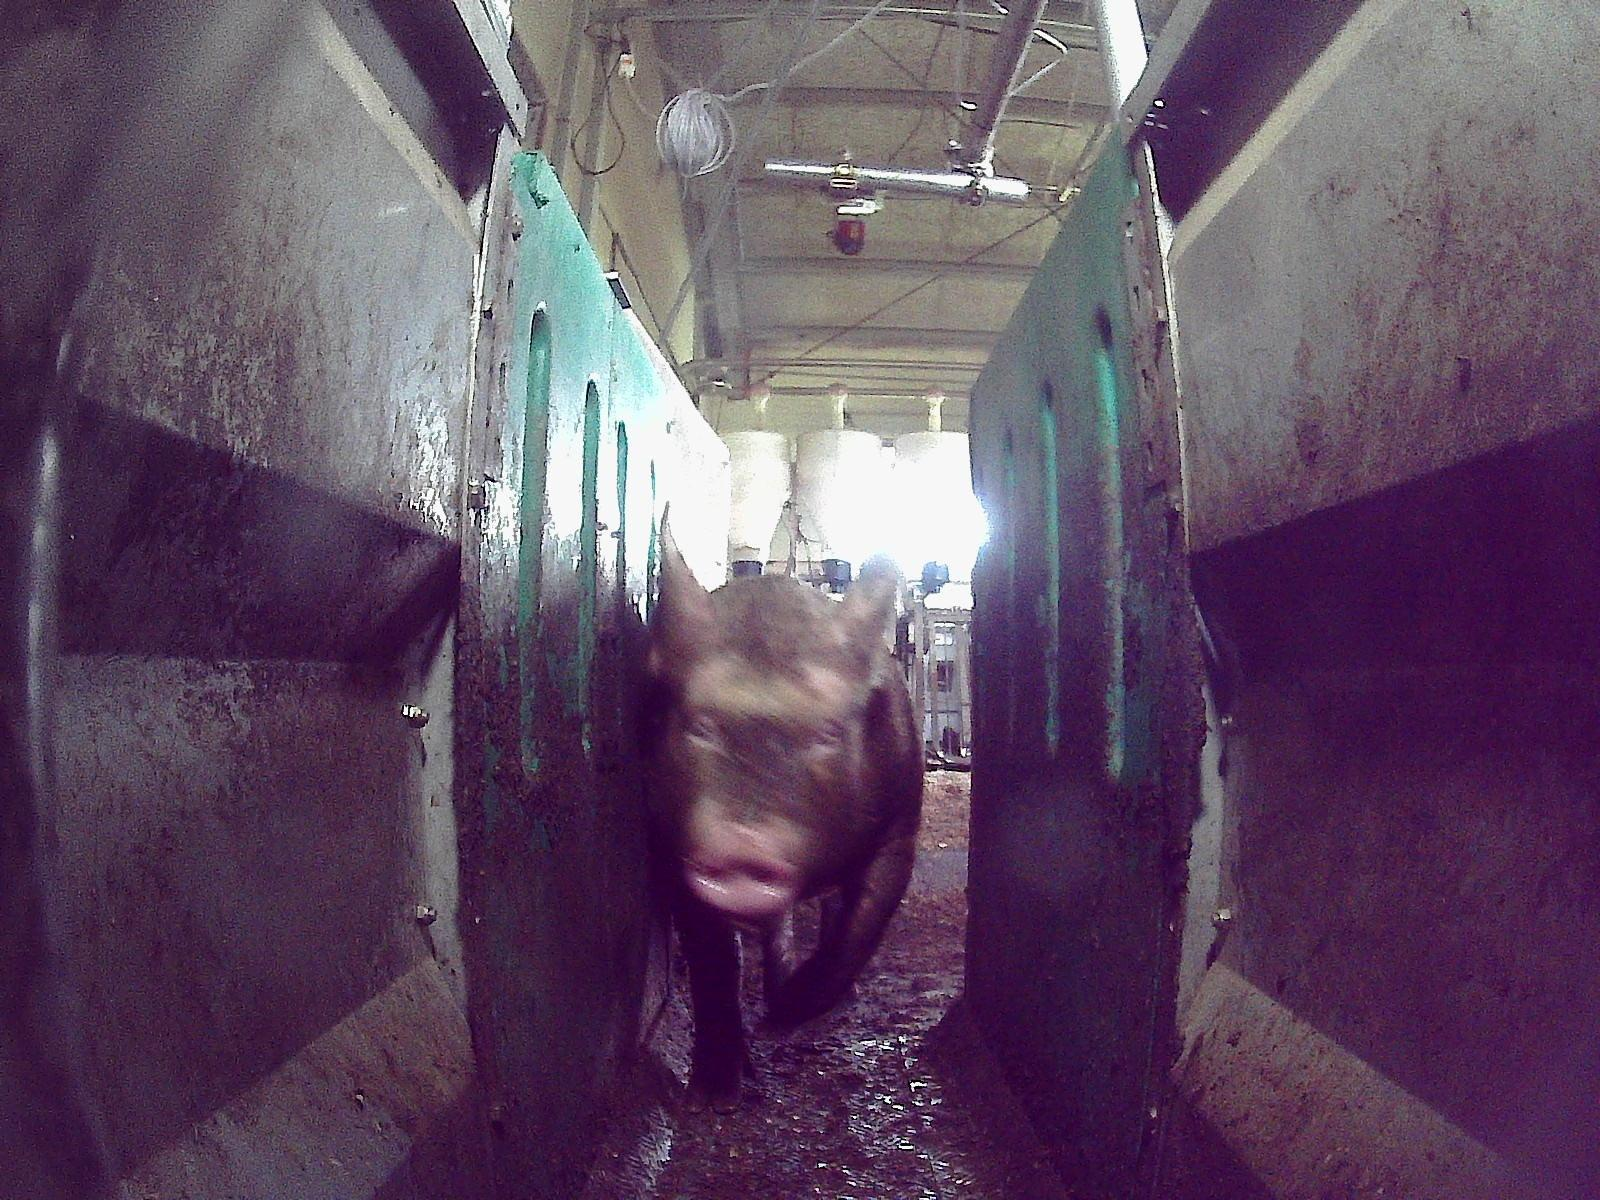Face: (665, 598, 871, 918)
